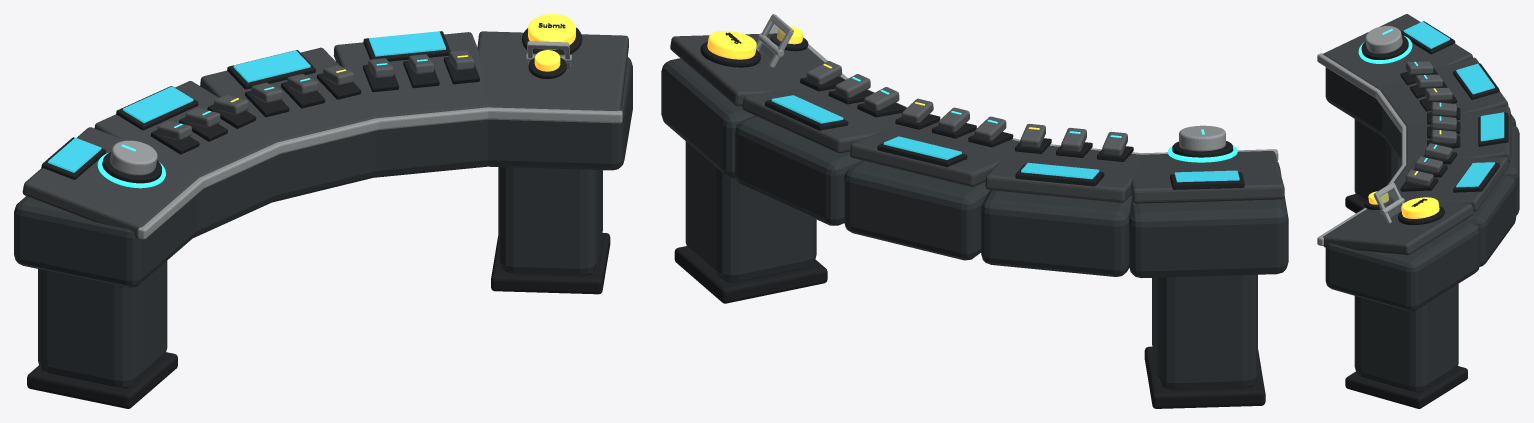
Rendered from mission-control-workbench.glb.
3 views of the same model, side by side, from view 1: azimuth 30°, elevation 25°; view 2: azimuth 150°, elevation 25°; view 3: azimuth 270°, elevation 25° (orthographic). The views are drawn at different scales.
Parts seen in each view (by area): view 1: Pedestal_Left, Pedestal_Right, Module_01_Body, Module_05_Deck, Module_05_Body, Module_01_Deck, Module_04_Deck, Module_04_Body, Module_03_Deck, Module_02_Deck, Module_03_Body, Module_02_Body (+18 smaller); view 2: Module_01_Body, Pedestal_Left, Pedestal_Right, Module_02_Body, Module_03_Body, Module_04_Body, Module_05_Body, Module_01_Deck, Module_05_Deck, Module_02_Deck, Module_03_Deck, Module_04_Deck (+16 smaller); view 3: Pedestal_Right, Module_05_Body, Module_05_Deck, Module_01_Deck, Module_02_Deck, Pedestal_Left, Module_03_Deck, Module_04_Deck, Module_04_Body, Pedestal_Right_Foot, Module_01_Body, Knob_Main_Grip (+33 smaller).
Part boxes in pixels (left/top/right/bottom): Pedestal_Left: left=38, top=261, right=167, bottom=388; Pedestal_Right: left=498, top=167, right=602, bottom=276; Module_01_Body: left=14, top=195, right=196, bottom=287; Module_05_Deck: left=477, top=31, right=628, bottom=111; Module_05_Body: left=487, top=57, right=632, bottom=170; Module_01_Deck: left=22, top=127, right=198, bottom=238; Module_04_Deck: left=333, top=32, right=487, bottom=118; Module_04_Body: left=373, top=119, right=487, bottom=177; Module_03_Deck: left=200, top=47, right=376, bottom=142; Module_02_Deck: left=94, top=81, right=276, bottom=177; Module_03_Body: left=272, top=131, right=375, bottom=202; Module_02_Body: left=193, top=156, right=275, bottom=237; Module_01_Body: left=1129, top=162, right=1288, bottom=278; Pedestal_Left: left=1152, top=274, right=1257, bottom=390; Pedestal_Right: left=685, top=141, right=816, bottom=282; Module_02_Body: left=981, top=190, right=1131, bottom=276; Module_03_Body: left=844, top=160, right=989, bottom=260; Module_04_Body: left=735, top=116, right=860, bottom=225; Module_05_Body: left=661, top=58, right=754, bottom=178; Module_01_Deck: left=1131, top=151, right=1284, bottom=203; Module_05_Deck: left=670, top=33, right=843, bottom=106; Module_02_Deck: left=985, top=145, right=1141, bottom=202; Module_03_Deck: left=850, top=122, right=1019, bottom=186; Module_04_Deck: left=742, top=87, right=901, bottom=153; Pedestal_Right: left=1354, top=284, right=1458, bottom=392; Module_05_Body: left=1325, top=220, right=1479, bottom=311; Module_05_Deck: left=1323, top=201, right=1473, bottom=255; Module_01_Deck: left=1323, top=14, right=1472, bottom=89; Module_02_Deck: left=1380, top=57, right=1508, bottom=126; Pedestal_Left: left=1354, top=119, right=1401, bottom=203; Module_03_Deck: left=1406, top=106, right=1511, bottom=164; Module_04_Deck: left=1387, top=157, right=1508, bottom=211; Module_04_Body: left=1465, top=174, right=1516, bottom=266; Pedestal_Right_Foot: left=1345, top=366, right=1467, bottom=408; Module_01_Body: left=1325, top=67, right=1383, bottom=136; Knob_Main_Grip: left=1365, top=26, right=1402, bottom=53.
Size of the model in its own units: 3.43 by 1.29 by 1.24.
